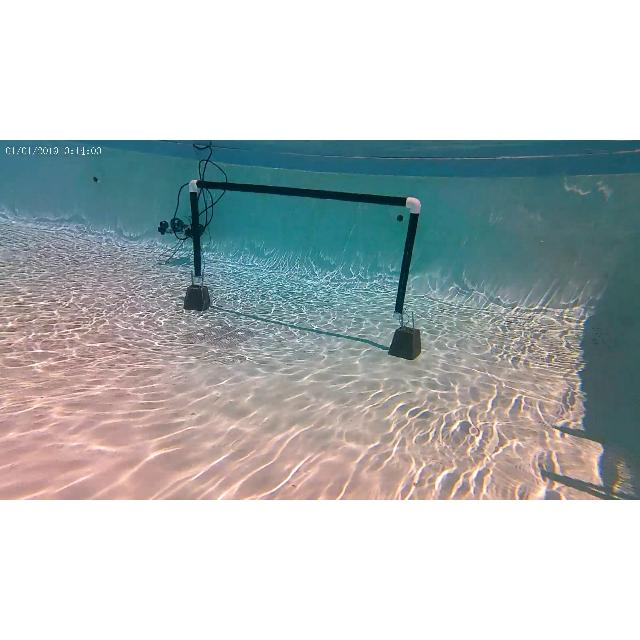prequal gate: (189, 176, 423, 318)
prequal gate leg l: (184, 178, 212, 312)
prequal gate leg r: (391, 196, 427, 360)
